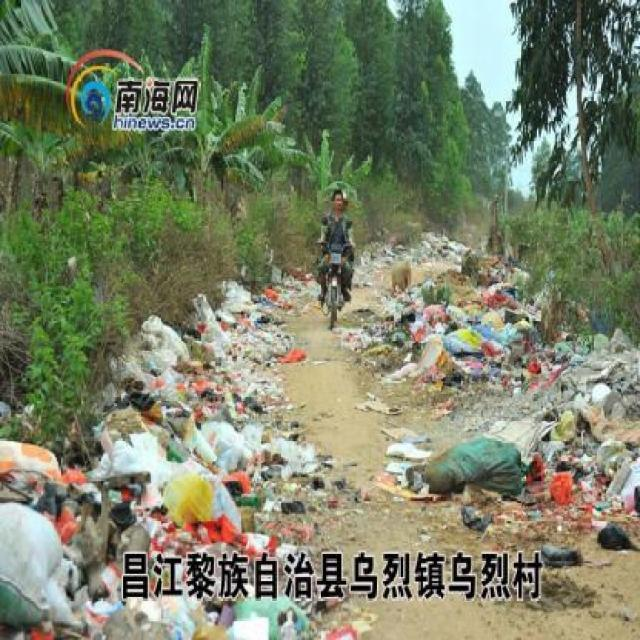garbage: (438, 309, 640, 543), (140, 311, 299, 537), (0, 412, 129, 640), (423, 246, 528, 412), (122, 351, 236, 466), (359, 302, 460, 431), (239, 265, 315, 312), (357, 234, 392, 272), (421, 221, 456, 256)
